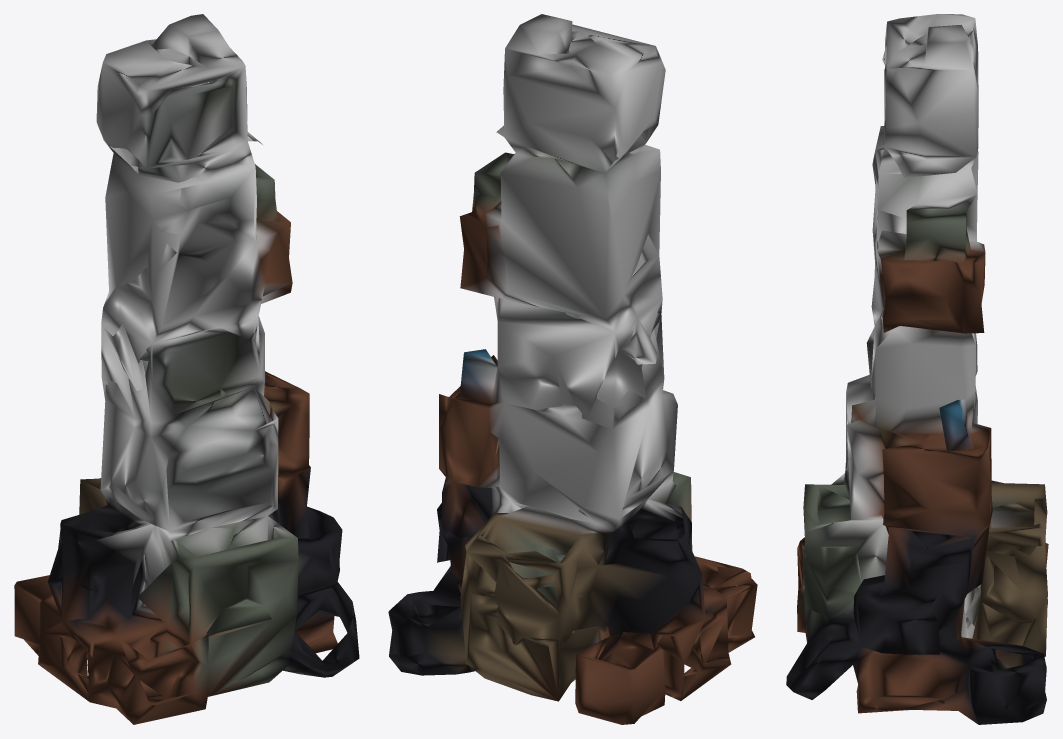
Rendered from gen3d-junk-tower-lod0.glb.
3 views of the same model, side by side, from view 1: azimuth 30°, elevation 25°; view 2: azimuth 150°, elevation 25°; view 3: azimuth 270°, elevation 25° (orthographic). The views are drawn at different scales.
Visible parts, largest first — view 1: part_0; view 2: part_0; view 3: part_0.
Boxes of the visible parts, x1,y1,x2,y2 form: part_0: [14, 14, 359, 724]; part_0: [388, 14, 757, 724]; part_0: [786, 14, 1048, 724].
Bounding box in the file's own units: 0.4438 × 0.9981 × 0.373.
